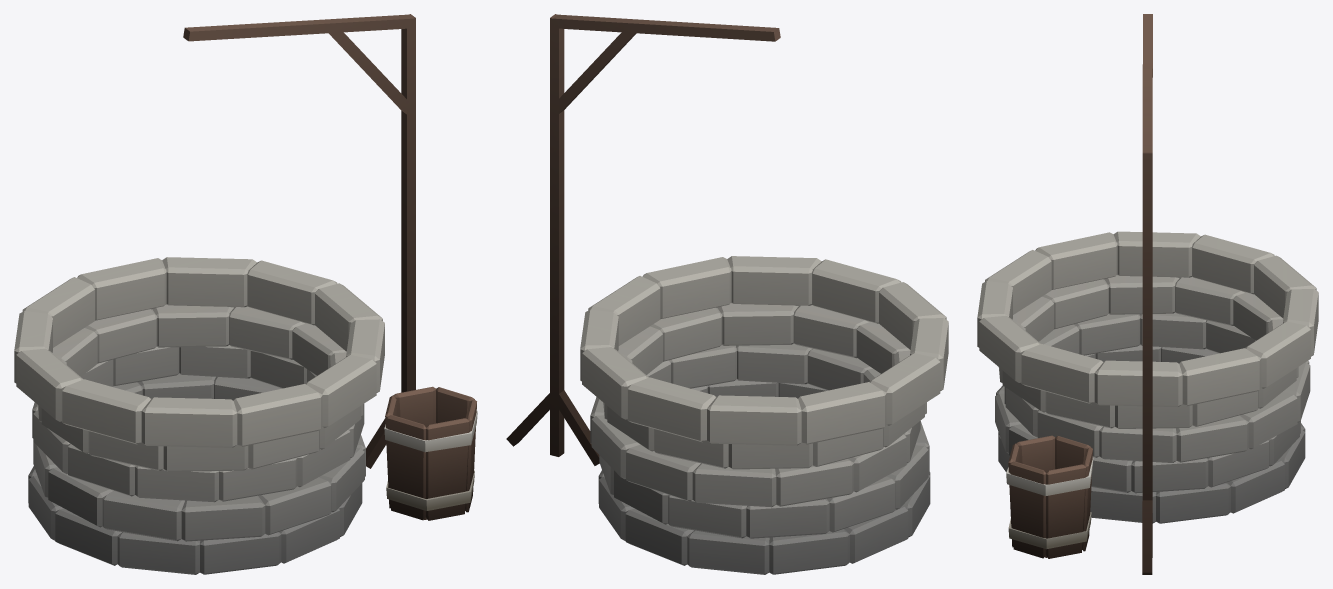
Rendered from Well.fbx.
3 renders of one model, left to right at view 1: azimuth 30°, elevation 25°; view 2: azimuth 150°, elevation 25°; view 3: azimuth 270°, elevation 25°, orthographic. The views are drawn at different scales.
Visible parts, largest first — view 1: well_n_bucket; view 2: well_n_bucket; view 3: well_n_bucket.
Part boxes in pixels (bbox=[...]): well_n_bucket: bbox=[14, 14, 477, 574]; well_n_bucket: bbox=[506, 14, 948, 574]; well_n_bucket: bbox=[977, 14, 1318, 574].
Size of the model in its own units: 2.71 by 2.08 by 2.98.
